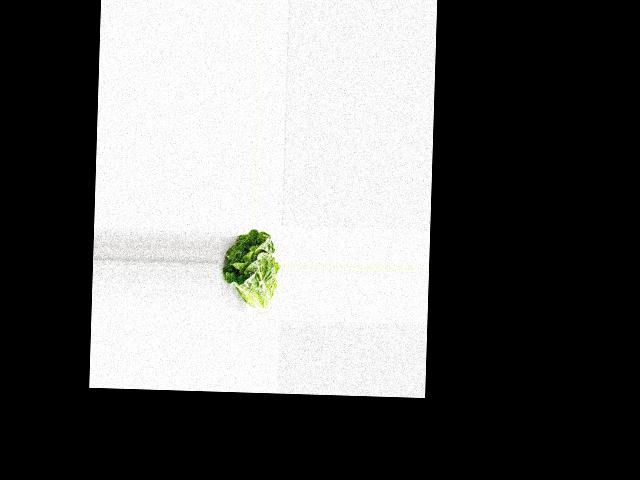lettuce: (220, 229, 281, 312)
